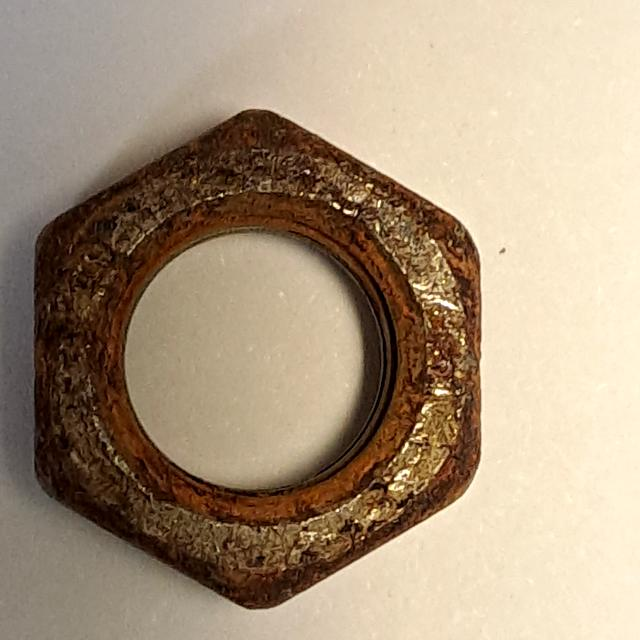Rust: (19, 91, 510, 626)
